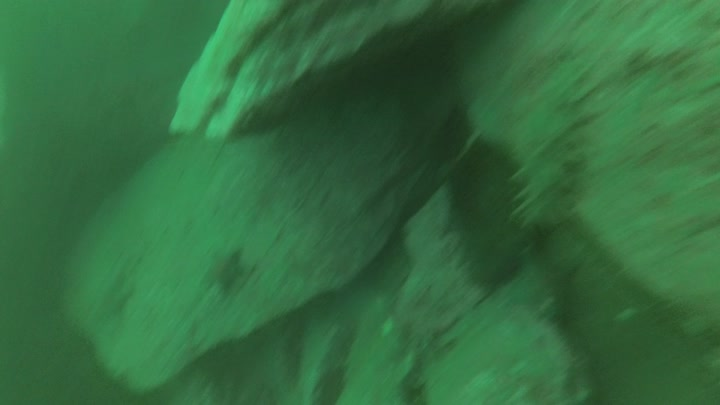holothurian: (508, 56, 609, 234)
starfish: (87, 268, 137, 327), (198, 248, 249, 293)
